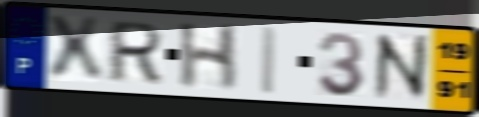3: (314, 30, 368, 100)
H: (176, 22, 242, 93)
I: (256, 23, 281, 97)
N: (372, 31, 431, 103)
R: (105, 19, 167, 84)
X: (43, 14, 108, 84)
